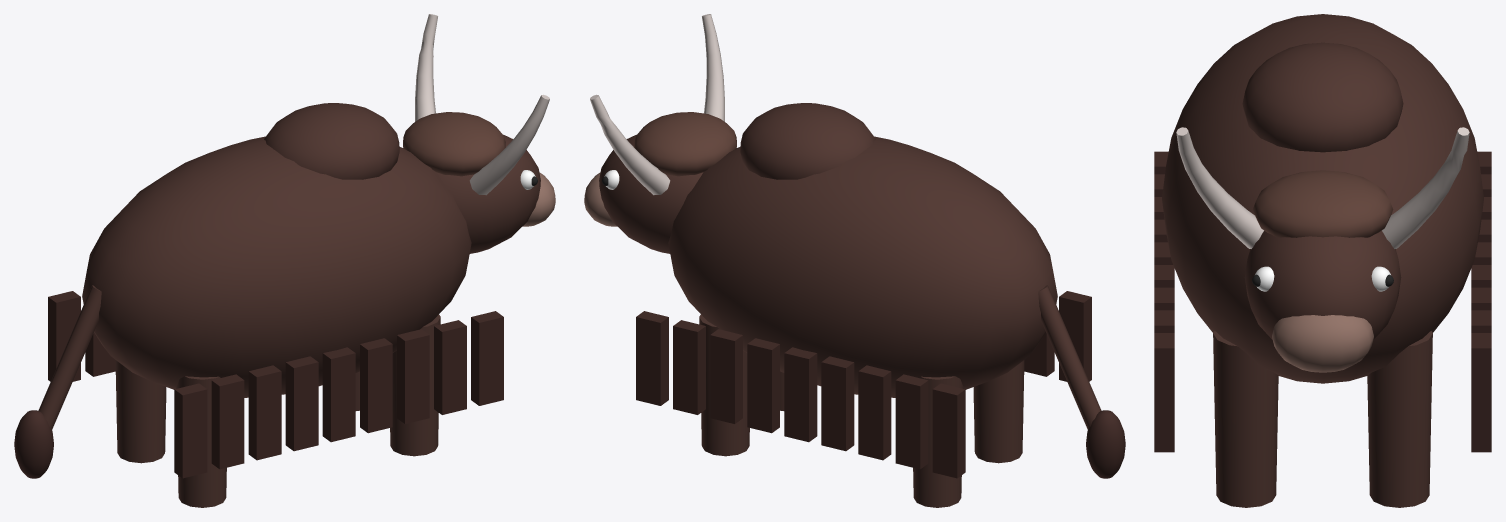
File: yak.glb
3 renders of one model, left to right at view 1: azimuth 30°, elevation 25°; view 2: azimuth 150°, elevation 25°; view 3: azimuth 270°, elevation 25°, orthographic. The views are drawn at different scales.
Visible parts, largest first — view 1: yak; view 2: yak; view 3: yak.
Part boxes in pixels (<box>): yak: <box>14,14,555,507</box>; yak: <box>584,14,1125,507</box>; yak: <box>1154,14,1491,507</box>.
Bounding box in the file's own units: 3.02 × 1.86 × 1.32.
